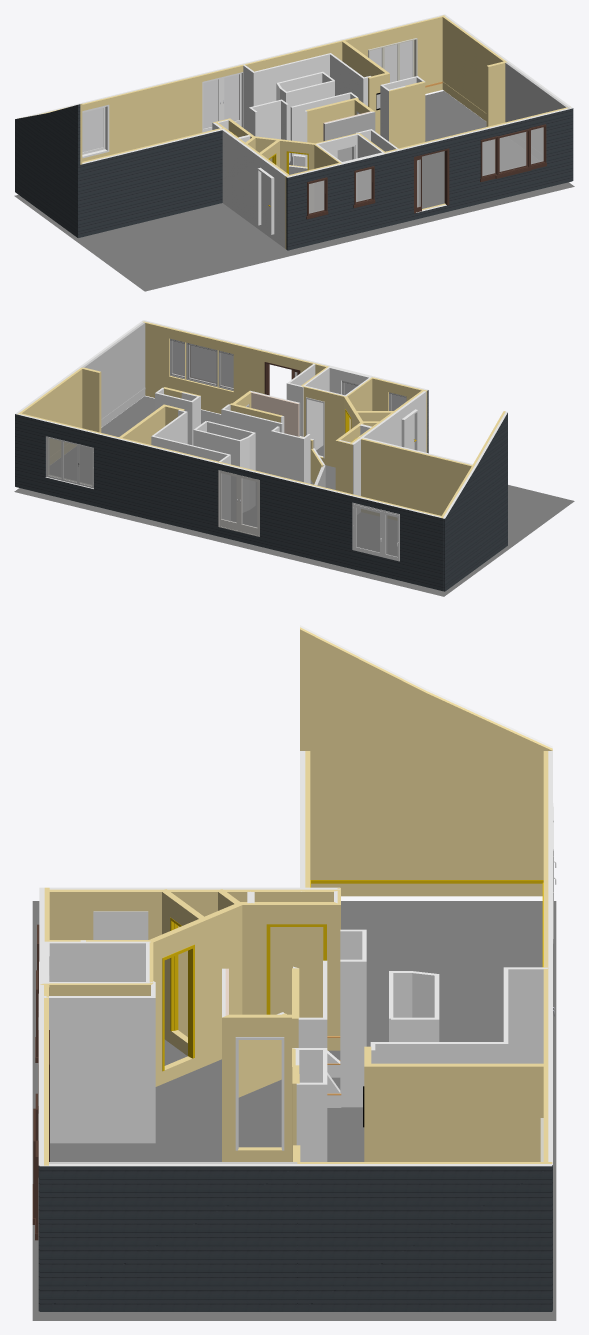
Rendered from Home5189f1.obj.
The picture shows the model from 3 angles, top to bottom: view 1: azimuth 30°, elevation 25°; view 2: azimuth 150°, elevation 25°; view 3: azimuth 270°, elevation 25°; orthographic projection. The views are drawn at different scales.
Parts seen in each view (by area): view 1: ground_1, wall_1_5, wall_26_151, wall_40_240, wall_11_51, wall_10_45, wall_6_19, wall_27_157, wall_28_163, wall_39_233, wall_33_194, wall_32_187 (+37 smaller); view 2: wall_26_152, ground_1, wall_33_195, wall_1_6, wall_40_240, wall_5_12, wall_39_233, wall_27_158, wall_28_164, wall_6_19, wall_11_51, wall_31_182 (+35 smaller); view 3: ground_1, wall_5_13, wall_6_20, wall_40_241, wall_39_234, wall_7_27, wall_55_336, wall_11_52, wall_15_77, wall_17_89, wall_12_57, wall_46_282 (+17 smaller).
Part boxes in pixels (left/top/right/bottom): ground_1: left=14, top=91, right=574, bottom=291; wall_1_5: left=80, top=130, right=222, bottom=237; wall_26_151: left=82, top=41, right=342, bottom=161; wall_40_240: left=46, top=104, right=80, bottom=237; wall_11_51: left=212, top=123, right=285, bottom=248; wall_10_45: left=286, top=164, right=343, bottom=250; wall_6_19: left=442, top=17, right=503, bottom=121; wall_27_157: left=512, top=108, right=572, bottom=195; wall_28_163: left=454, top=123, right=512, bottom=209; wall_39_233: left=15, top=113, right=46, bottom=214; wall_33_194: left=345, top=17, right=442, bottom=93; wall_32_187: left=343, top=154, right=386, bottom=236; wall_26_152: left=118, top=439, right=443, bottom=591; ground_1: left=14, top=396, right=574, bottom=596; wall_33_195: left=16, top=414, right=118, bottom=511; wall_1_6: left=361, top=439, right=471, bottom=520; wall_40_240: left=476, top=413, right=507, bottom=567; wall_5_12: left=84, top=323, right=145, bottom=427; wall_39_233: left=443, top=467, right=476, bottom=591; wall_27_158: left=145, top=323, right=202, bottom=409; wall_28_164: left=201, top=337, right=259, bottom=413; wall_6_19: left=22, top=369, right=82, bottom=464; wall_11_51: left=353, top=392, right=426, bottom=514; wall_31_182: left=303, top=387, right=343, bottom=467; ground_1: left=32, top=901, right=556, bottom=1320; wall_5_13: left=39, top=1166, right=297, bottom=1311; wall_6_20: left=297, top=1166, right=552, bottom=1311; wall_40_241: left=300, top=629, right=425, bottom=896; wall_39_234: left=426, top=693, right=552, bottom=896; wall_7_27: left=364, top=1066, right=543, bottom=1161; wall_55_336: left=49, top=998, right=155, bottom=1143; wall_11_52: left=49, top=892, right=333, bottom=1036; wall_15_77: left=153, top=905, right=242, bottom=1086; wall_17_89: left=242, top=905, right=340, bottom=1050; wall_12_57: left=222, top=1017, right=291, bottom=1161; wall_46_282: left=340, top=961, right=366, bottom=1107.
Bounding box in the file's own units: 1657 × 508 × 874.
